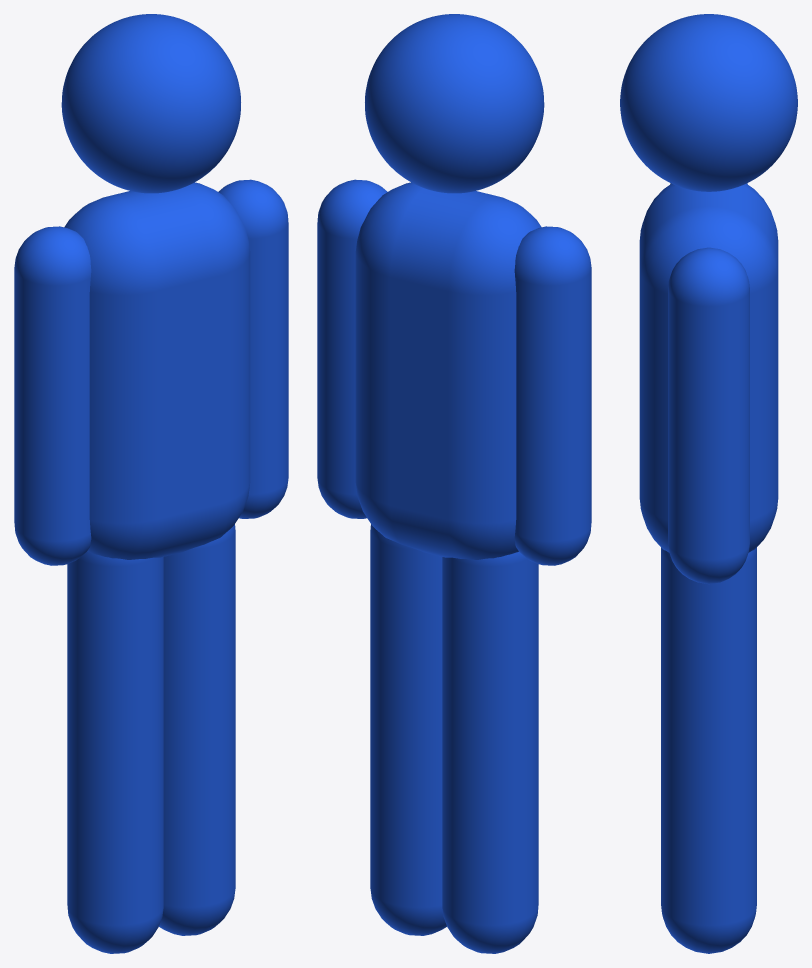
File: user-model.glb
The picture shows the model from 3 angles, left to right: view 1: azimuth 30°, elevation 25°; view 2: azimuth 150°, elevation 25°; view 3: azimuth 270°, elevation 25°; orthographic projection.
Visible parts, largest first — view 1: Cube_1, Cube_4_1, Cube_5_1, Sphere_1, Cube_2_1, Cube_3_1; view 2: Cube_1, Cube_4_1, Cube_5_1, Sphere_1, Cube_2_1, Cube_3_1; view 3: Cube_5_1, Cube_3_1, Sphere_1, Cube_1.
Boxes of the visible parts, <box> form: Cube_1: <box>64,182,250,559</box>; Cube_4_1: <box>67,552,163,953</box>; Cube_5_1: <box>159,524,235,935</box>; Sphere_1: <box>61,14,240,193</box>; Cube_2_1: <box>14,226,91,565</box>; Cube_3_1: <box>218,179,288,518</box>; Cube_1: <box>355,182,541,559</box>; Cube_4_1: <box>442,552,538,953</box>; Cube_5_1: <box>370,524,446,935</box>; Sphere_1: <box>365,14,544,193</box>; Cube_2_1: <box>514,226,591,565</box>; Cube_3_1: <box>317,179,387,518</box>; Cube_5_1: <box>661,548,756,953</box>; Cube_3_1: <box>668,247,749,584</box>; Sphere_1: <box>620,14,797,191</box>; Cube_1: <box>639,183,778,552</box>.
Bounding box in the file's own units: 2.2 × 7.34 × 1.3.
